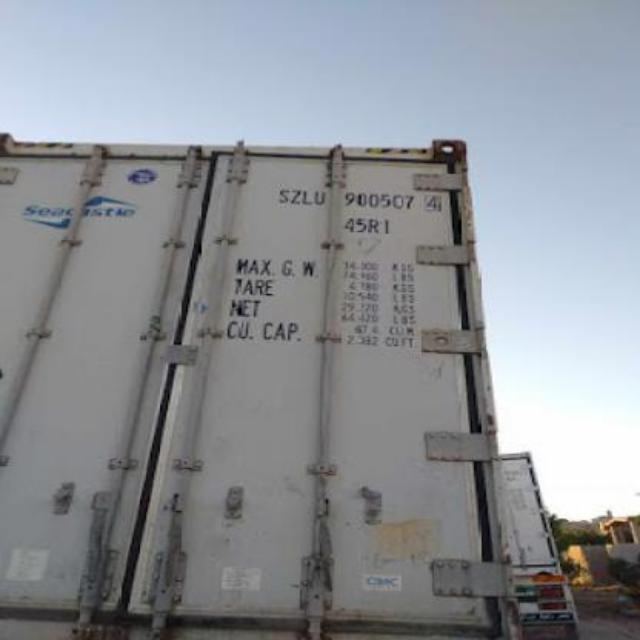0: (392, 192, 404, 212), (356, 191, 368, 209), (368, 192, 380, 210)
4: (428, 194, 438, 210)
5: (378, 192, 392, 208)
7: (404, 194, 416, 210)
9: (344, 192, 356, 206)
L: (304, 190, 314, 206)
S: (274, 188, 290, 202)
U: (312, 190, 328, 206)
Z: (292, 188, 300, 204)
